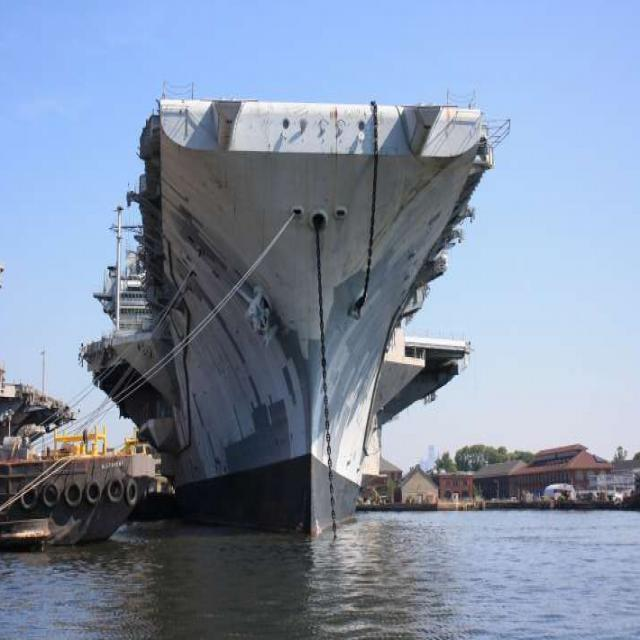Portanaves: (93, 1, 500, 548)
